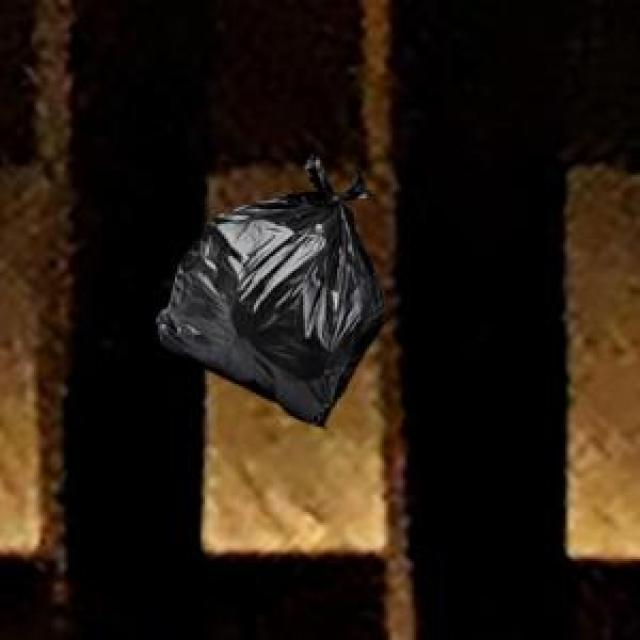miscellaneous trash: (152, 152, 380, 422)
